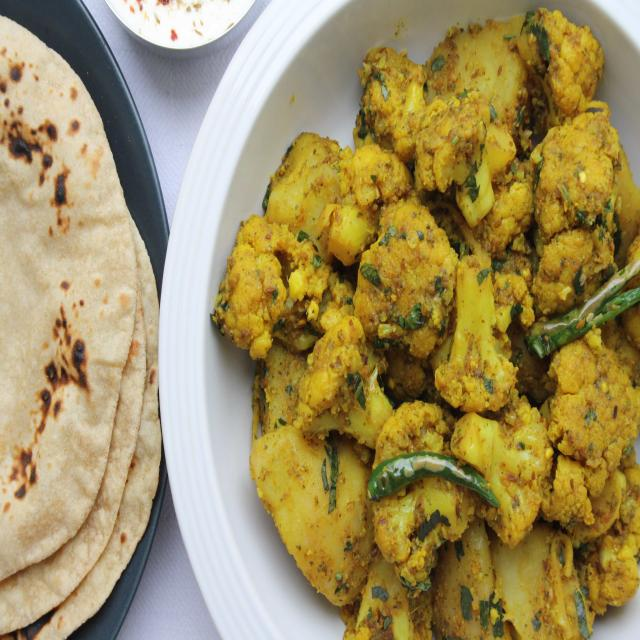aloo_gobi: (229, 10, 640, 640)
chapati: (0, 17, 138, 579)
